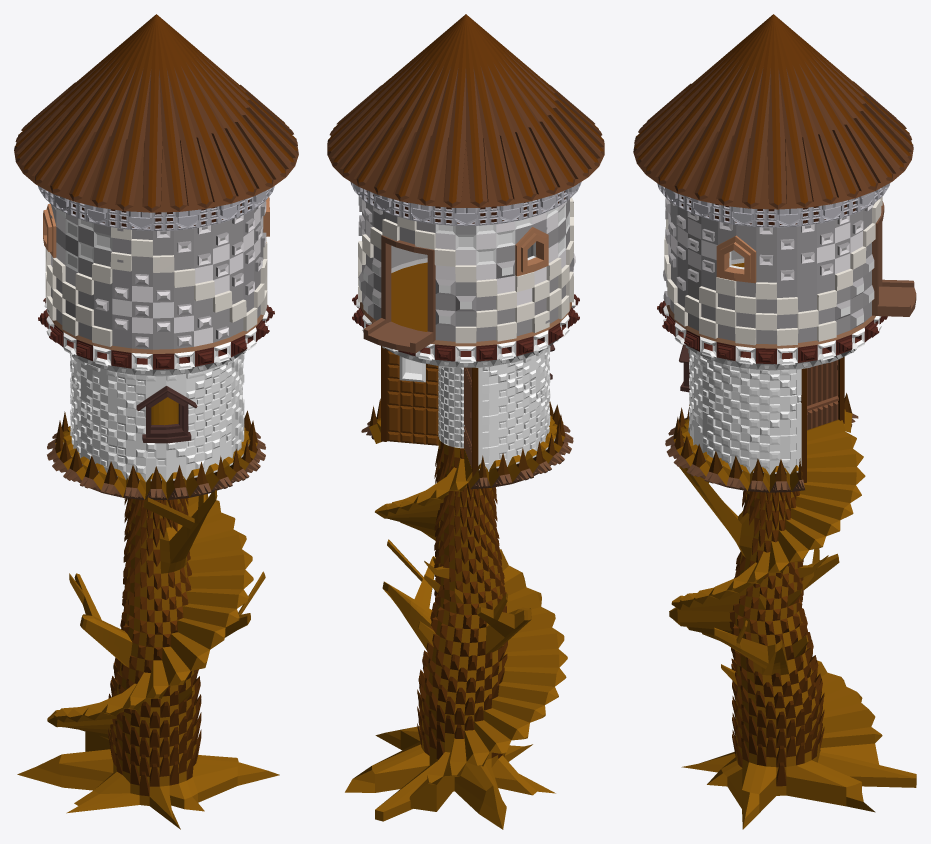
The model's file is EnemyBase.fbx.
3 renders of one model, left to right at view 1: azimuth 30°, elevation 25°; view 2: azimuth 150°, elevation 25°; view 3: azimuth 270°, elevation 25°, orthographic. The views are drawn at different scales.
Parts seen in each view (by area): view 1: Cylinder_87, Cone_66, Cone.002_68, Cylinder.001_71, Circle.010_15, Cylinder.005_75, Circle.013_18, Circle.064_65, Cylinder.013_83, Cone.003_69, Cylinder.010_80, Circle.062_63 (+10 smaller); view 2: Cylinder_87, Cone_66, Cone.002_68, Cylinder.001_71, Circle.013_18, Circle.010_15, Cylinder.016_85, Cylinder.005_75, Cone.003_69, Circle.016_21, Circle.064_65, Circle.063_64 (+17 smaller); view 3: Cylinder_87, Cone_66, Cone.002_68, Cylinder.001_71, Circle.010_15, Circle.013_18, Cylinder.005_75, Cylinder.012_82, Cone.003_69, Circle.005_10, Circle.016_21, Circle.062_63 (+13 smaller).
Boxes of the visible parts, x1,y1,x2,y2 form: Cylinder_87: (17, 397, 279, 829); Cone_66: (14, 50, 298, 212); Cone.002_68: (15, 14, 297, 208); Cylinder.001_71: (108, 498, 201, 796); Circle.010_15: (49, 201, 266, 349); Cylinder.005_75: (71, 357, 241, 481); Circle.013_18: (45, 227, 267, 346); Circle.064_65: (51, 206, 263, 346); Cylinder.013_83: (70, 354, 235, 467); Cone.003_69: (38, 186, 274, 230); Cylinder.010_80: (70, 354, 242, 479); Circle.062_63: (95, 202, 266, 347); Cylinder_87: (345, 416, 567, 829); Cone_66: (327, 49, 604, 207); Cone.002_68: (328, 14, 603, 203); Cylinder.001_71: (417, 442, 507, 759); Circle.013_18: (358, 197, 573, 343); Circle.010_15: (358, 196, 573, 341); Cylinder.016_85: (387, 350, 438, 445); Cylinder.005_75: (405, 348, 548, 469); Cone.003_69: (350, 181, 581, 225); Circle.016_21: (363, 235, 435, 353); Circle.064_65: (362, 199, 565, 305); Circle.063_64: (366, 245, 565, 341); Cylinder_87: (669, 409, 916, 829); Cone_66: (633, 49, 913, 209); Cone.002_68: (634, 14, 912, 205); Cylinder.001_71: (729, 490, 824, 786); Circle.010_15: (664, 198, 874, 344); Circle.013_18: (664, 196, 882, 345); Cylinder.005_75: (690, 350, 798, 474); Cylinder.012_82: (695, 353, 790, 468); Cone.003_69: (657, 183, 890, 227); Circle.005_10: (657, 300, 887, 364); Circle.016_21: (872, 201, 916, 316); Circle.062_63: (663, 199, 873, 304).
Size of the model in its own units: 2791 by 8390 by 2820.
